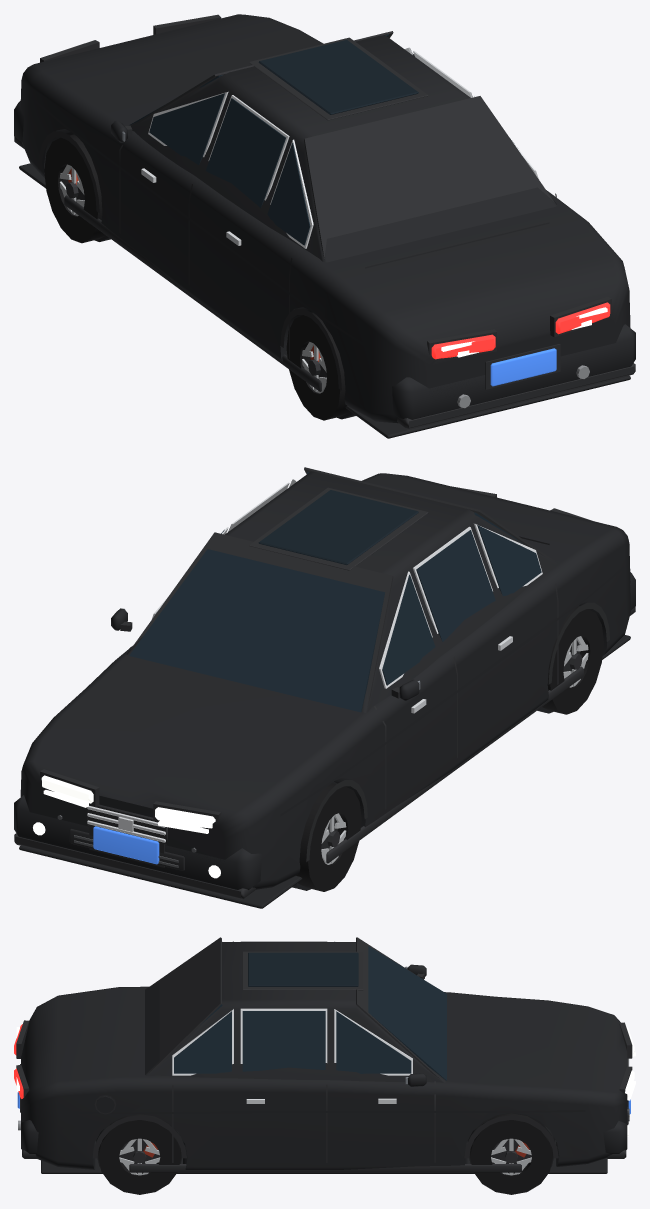
The model's file is car_sedan_exec_black.glb.
The picture shows the model from 3 angles, top to bottom: view 1: azimuth 30°, elevation 25°; view 2: azimuth 150°, elevation 25°; view 3: azimuth 270°, elevation 25°; orthographic projection. The views are drawn at different scales.
Parts seen in each view (by area): view 1: Body, Trim, Glass, Wheel_FL, Wheel_RL, Lights, Plate_R; view 2: Body, Glass, Trim, Wheel_FL, Wheel_RL, Lights, Plate_F; view 3: Body, Glass, Trim, Wheel_FR, Wheel_RR, Lights.
Part boxes in pixels (box(x1,y1,x2,y2)): Body: box(14, 14, 635, 423); Trim: box(14, 14, 635, 438); Glass: box(122, 34, 514, 245); Wheel_FL: box(44, 134, 105, 243); Wheel_RL: box(286, 312, 349, 420); Lights: box(431, 302, 610, 359); Plate_R: box(490, 348, 556, 386); Body: box(14, 472, 635, 889); Glass: box(124, 472, 541, 712); Trim: box(14, 467, 635, 908); Wheel_FL: box(296, 783, 361, 891); Wheel_RL: box(542, 606, 603, 714); Lights: box(33, 775, 220, 878); Plate_F: box(93, 826, 159, 864); Body: box(21, 942, 627, 1169); Glass: box(174, 946, 446, 1084); Trim: box(16, 937, 632, 1173); Wheel_FR: box(470, 1113, 552, 1194); Wheel_RR: box(98, 1114, 181, 1194); Lights: box(14, 1024, 635, 1136).
Bounding box in the file's own units: 2.03 × 1.5 × 4.72.
